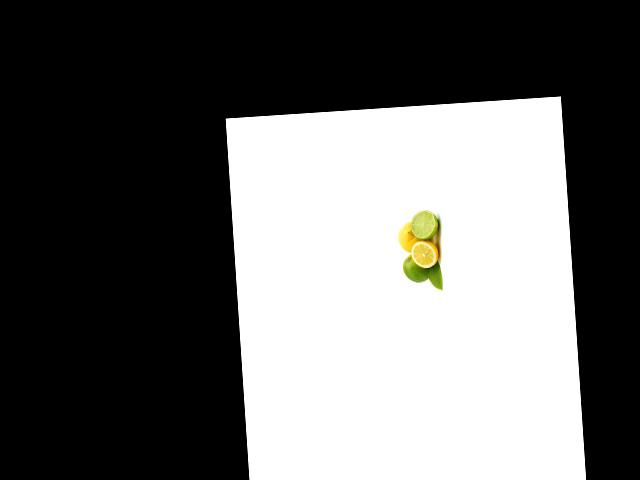lemon: (395, 220, 422, 253)
